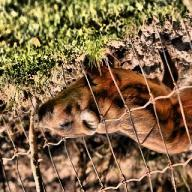boar: (34, 34, 191, 156)
